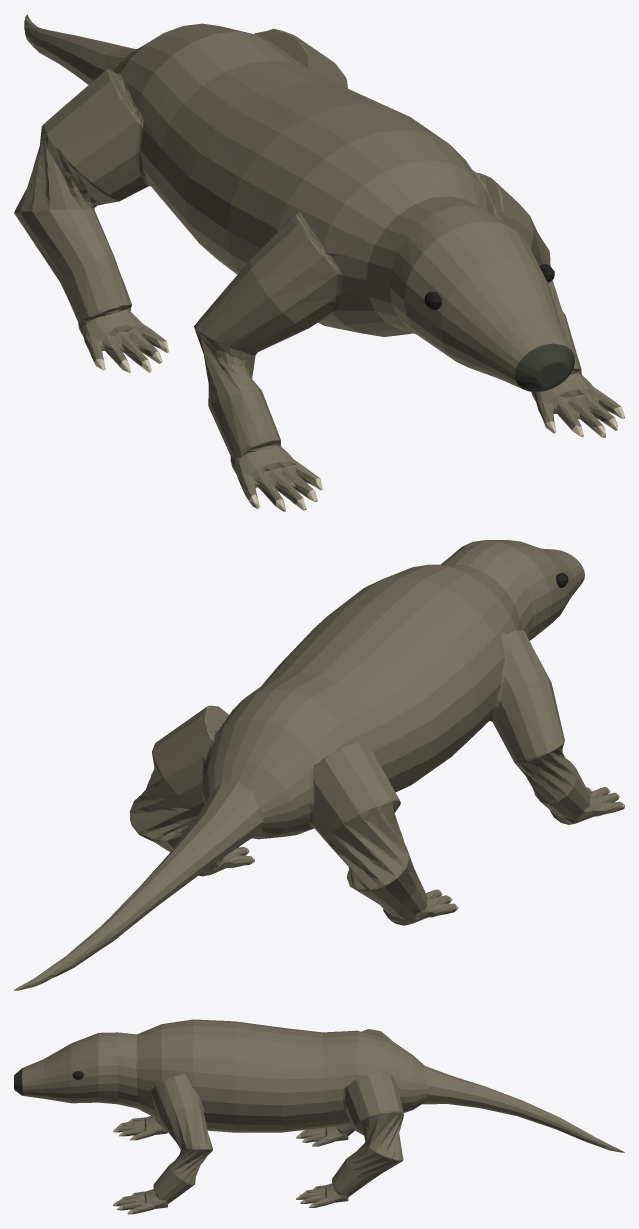
The picture shows the model from 3 angles, top to bottom: view 1: azimuth 30°, elevation 25°; view 2: azimuth 150°, elevation 25°; view 3: azimuth 270°, elevation 25°; orthographic projection. The views are drawn at different scales.
Visible parts, largest first — view 1: 01-continuous-skin-head-trunk-four-limbs-digits-tail; view 2: 01-continuous-skin-head-trunk-four-limbs-digits-tail; view 3: 01-continuous-skin-head-trunk-four-limbs-digits-tail.
Boxes of the visible parts, x1,y1,x2,y2 form: 01-continuous-skin-head-trunk-four-limbs-digits-tail: (14, 14, 624, 511); 01-continuous-skin-head-trunk-four-limbs-digits-tail: (14, 540, 624, 990); 01-continuous-skin-head-trunk-four-limbs-digits-tail: (14, 1019, 624, 1214).
Bounding box in the file's own units: 0.1599 × 0.116 × 0.4468.
